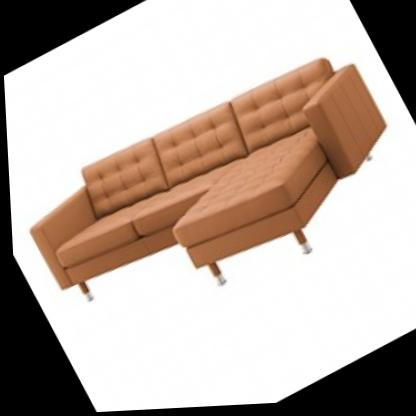Sofa: (1, 19, 416, 378)
